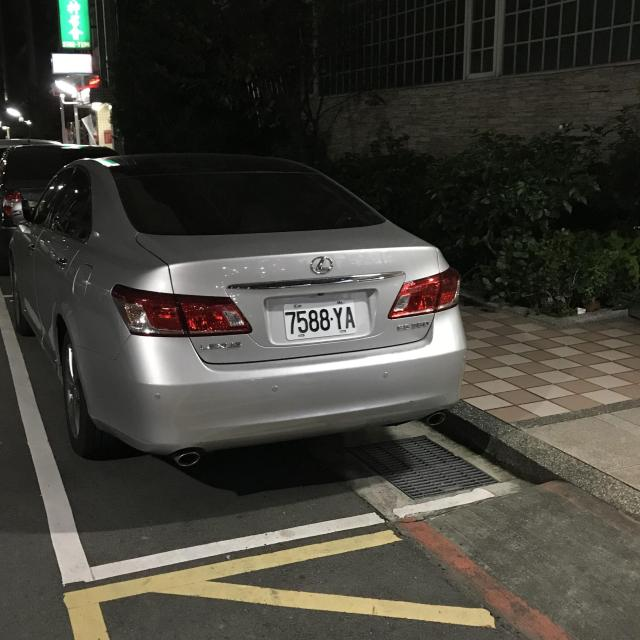W: (276, 296, 363, 342)
